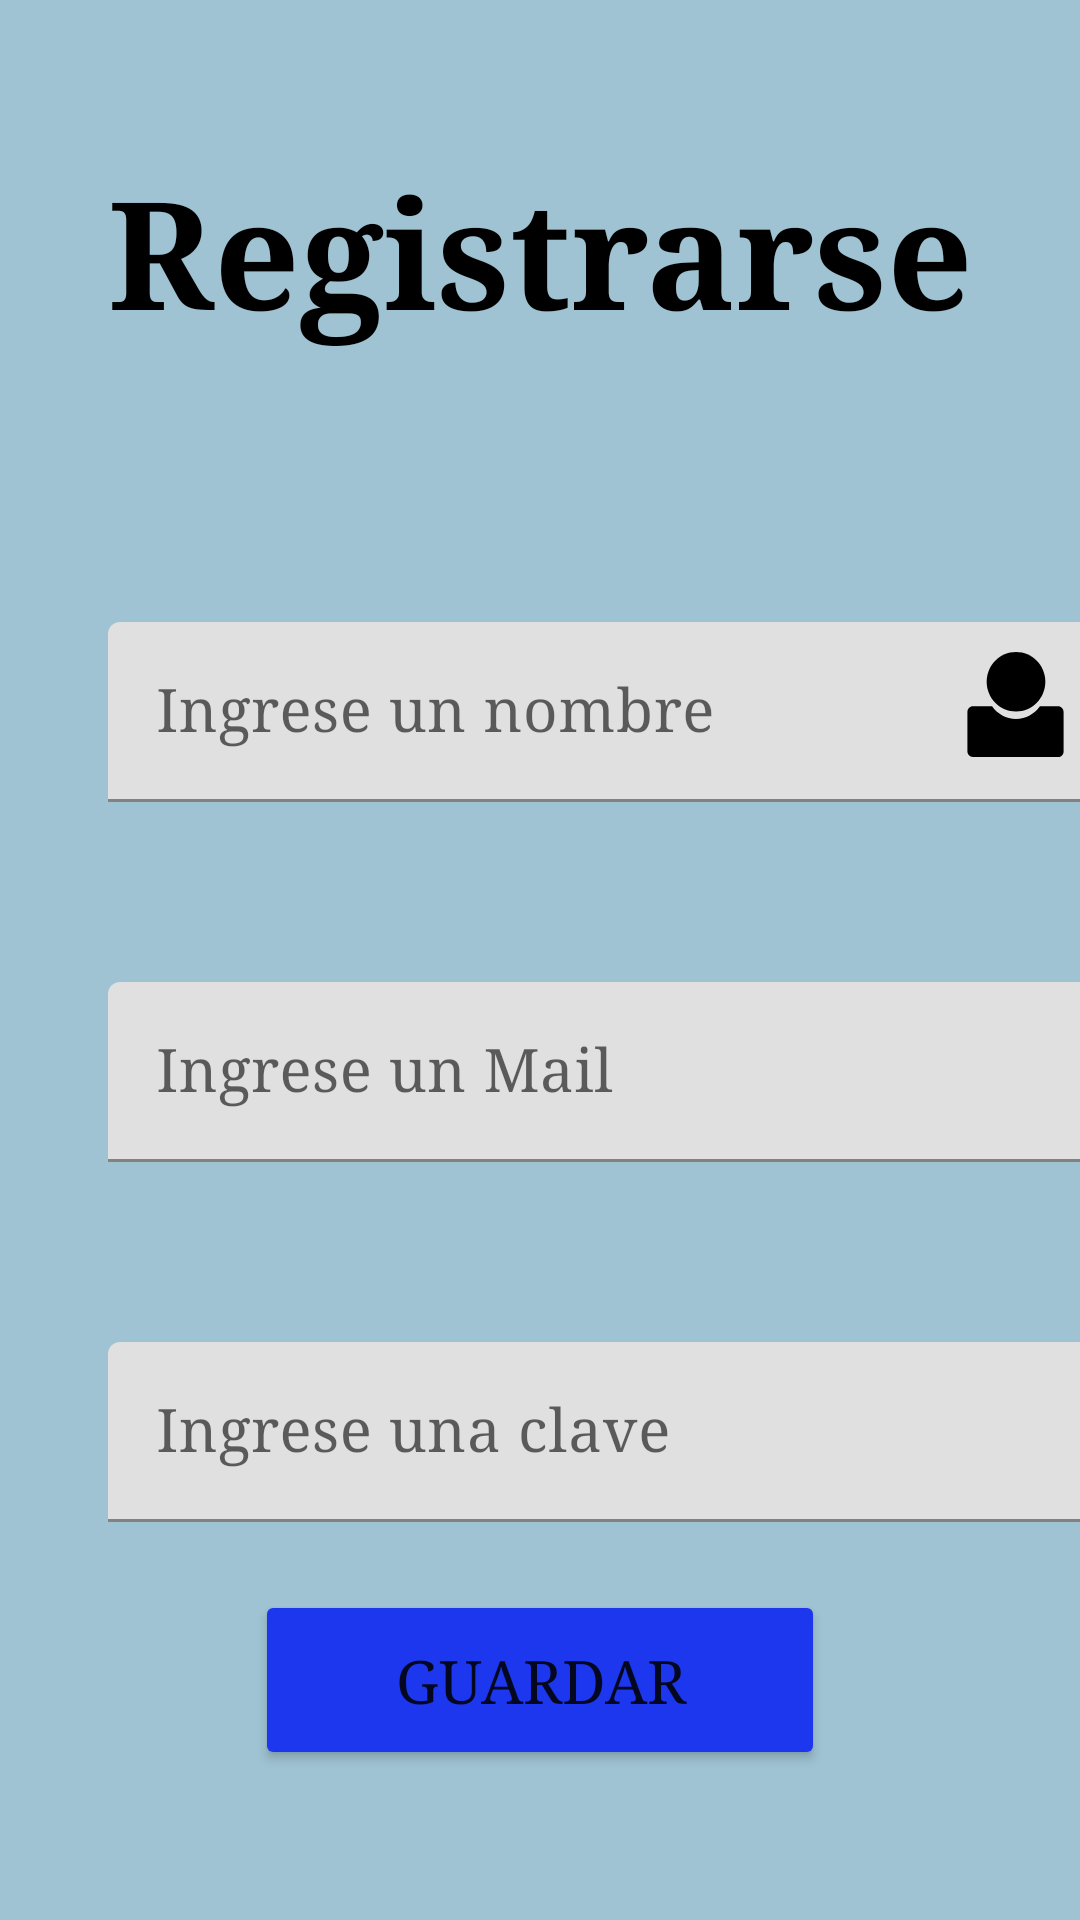

Icon click points for this 1080w x 1920h phone screenshot, format (x,y):
user: (1015,704)
